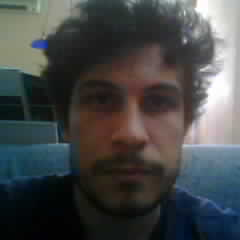without_mask: (73, 42, 186, 216)
